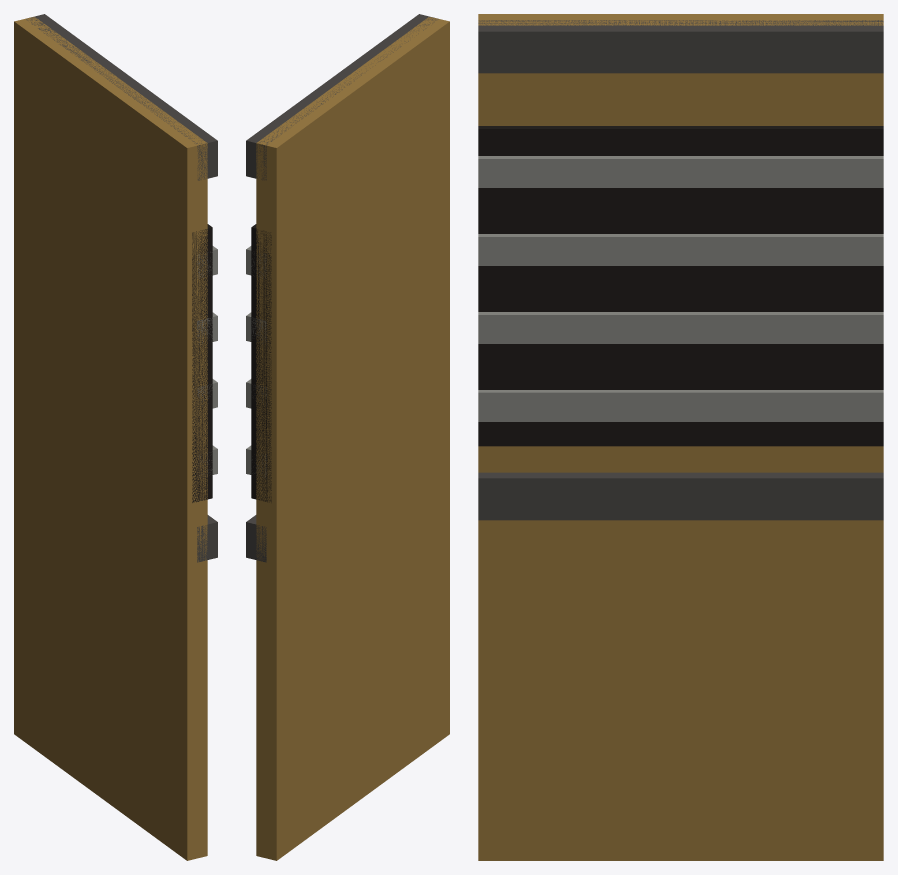
The model's file is nose.glb.
3 renders of one model, left to right at view 1: azimuth 30°, elevation 25°; view 2: azimuth 150°, elevation 25°; view 3: azimuth 270°, elevation 25°, orthographic. The views are drawn at different scales.
Parts seen in each view (by area): view 1: nose; view 2: nose; view 3: nose.
Boxes of the visible parts, x1,y1,x2,y2 form: nose: (14,14,217,860); nose: (246,14,449,860); nose: (478,14,883,860).
Size of the model in its own units: 0.045 by 1 by 0.44.
